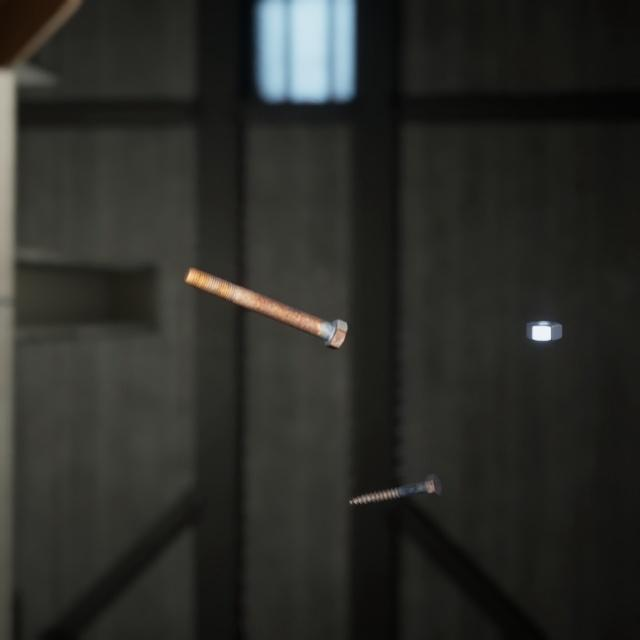bolt: (179, 244, 351, 336), (344, 448, 446, 488)
nut: (521, 298, 566, 327)
